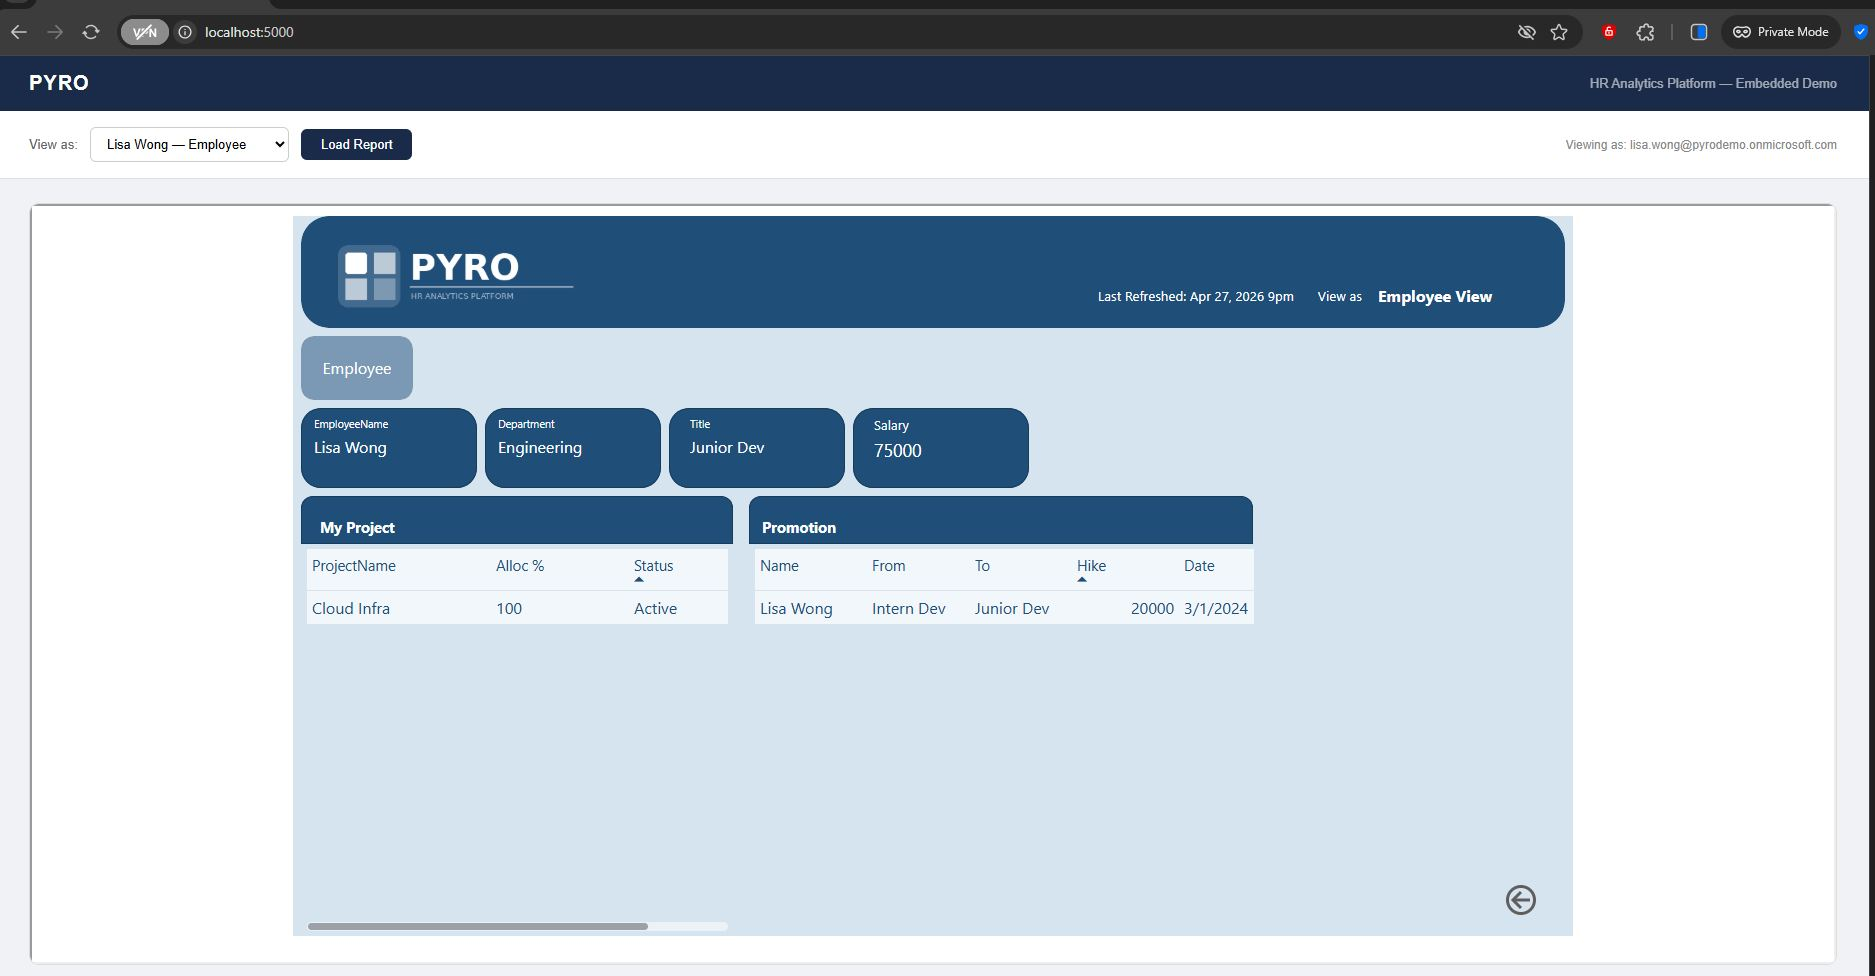

Layout of this report page (visuals, bound fields, positions):
{"tool":"powerbi","page":{"name":"Employee","canvas":[1280,720],"ordinal":1},"visuals":[{"type":"textbox","box":[1016,64,64,40],"z":0,"group":"g4"},{"type":"shape","box":[8,280,432,48],"z":0,"group":"g3"},{"type":"group","id":"g1","title":"Group 1","box":[456,280,504,48],"z":0,"group":"g6"},{"type":"shape","box":[456,280,504,48],"z":0,"group":"g1"},{"type":"textbox","box":[21.9,296,125.4,32],"z":501,"group":"g3"},{"type":"multiRowCard","fields":{"Values":["_Measure.Current Role"]},"box":[1080,64,168,40],"z":1000,"group":"g4"},{"type":"shape","box":[560,192,176,80],"z":1000,"group":"g6"},{"type":"shape","box":[376,192,176,80],"z":2000,"group":"g6"},{"type":"shape","box":[192,192,176,80],"z":3000,"group":"g6"},{"type":"actionButton","box":[8,120,112,64],"z":4000,"group":"g2"},{"type":"shape","box":[8,192,176,80],"z":4000,"group":"g5"},{"type":"textbox","box":[632,568,448,64],"z":4000,"group":"g6"},{"type":"shape","box":[8,0,1264,112],"z":5000},{"type":"actionButton","box":[128,120,112,64],"z":5000,"group":"g2"},{"type":"actionButton","box":[248,120,112,64],"z":6000,"group":"g2"},{"type":"tableEx","title":"My Projects","fields":{"Values":["Projects.ProjectName","Sum(Projects.AllocationPct)","Projects.Status"]},"box":[8,328,432,392],"z":6000,"group":"g6"},{"type":"image","box":[40,0,318.5,120],"z":7000},{"type":"group","id":"g2","title":"Group 3","box":[8,120,352,64],"z":8000,"group":"g6"},{"type":"tableEx","title":"My Projects","fields":{"Values":["Promotions.EmployeeName","Promotions.OldTitle","Promotions.NewTitle","_Measure.SalaryHike","Promotions.EffectiveDate"]},"box":[456,328,512,376],"z":9000,"group":"g6"},{"type":"textbox","box":[800,64,216,48],"z":10000,"group":"g6"},{"type":"textbox","box":[464,296,120,40],"z":11000,"group":"g6"},{"type":"group","id":"g3","title":"Group 1","box":[8,280,432,48],"z":12000,"group":"g6"},{"type":"multiRowCard","title":"Department","fields":{"Values":["_Measure.Department cardMy Department"]},"box":[200,200,160,56],"z":13000,"group":"g6"},{"type":"multiRowCard","title":"EmployeeName","fields":{"Values":["_Measure.Employee Name cardMy Name"]},"box":[16,200,160,56],"z":14000,"group":"g5"},{"type":"multiRowCard","title":"Title","fields":{"Values":["_Measure.Job Title cardMy Job Title"]},"box":[392,200,144,56],"z":14000,"group":"g6"},{"type":"multiRowCard","title":"Salary","fields":{"Values":["_Measure.Salary cardMy Salary"]},"box":[576,200,152,64],"z":15000,"group":"g6"},{"type":"group","id":"g4","title":"Group 2","box":[1016,64,232,40],"z":16000,"group":"g6"},{"type":"group","id":"g5","title":"Group 4","box":[8,192,176,80],"z":17000,"group":"g6"},{"type":"actionButton","box":[1208,664,72,40],"z":18000},{"type":"group","id":"g6","title":"Group 5","box":[8,64,1240,656],"z":18001}]}

Visuals, with their boxes on the page's 1280x720 design canvas (x1, y1, x2, y2). These are canvas units, not pixel positions in the 1875x976 screenshot, which may show the page scaled, cropped or inside an application window:
textbox: pyautogui.locateOnScreen(1016, 64, 1080, 104)
shape: pyautogui.locateOnScreen(8, 280, 440, 328)
"Group 1" group: pyautogui.locateOnScreen(456, 280, 960, 328)
shape: pyautogui.locateOnScreen(456, 280, 960, 328)
textbox: pyautogui.locateOnScreen(22, 296, 147, 328)
multiRowCard - _Measure.Current Role: pyautogui.locateOnScreen(1080, 64, 1248, 104)
shape: pyautogui.locateOnScreen(560, 192, 736, 272)
shape: pyautogui.locateOnScreen(376, 192, 552, 272)
shape: pyautogui.locateOnScreen(192, 192, 368, 272)
actionButton: pyautogui.locateOnScreen(8, 120, 120, 184)
shape: pyautogui.locateOnScreen(8, 192, 184, 272)
textbox: pyautogui.locateOnScreen(632, 568, 1080, 632)
shape: pyautogui.locateOnScreen(8, 0, 1272, 112)
actionButton: pyautogui.locateOnScreen(128, 120, 240, 184)
actionButton: pyautogui.locateOnScreen(248, 120, 360, 184)
"My Projects" tableEx: pyautogui.locateOnScreen(8, 328, 440, 720)
image: pyautogui.locateOnScreen(40, 0, 358, 120)
"Group 3" group: pyautogui.locateOnScreen(8, 120, 360, 184)
"My Projects" tableEx: pyautogui.locateOnScreen(456, 328, 968, 704)
textbox: pyautogui.locateOnScreen(800, 64, 1016, 112)
textbox: pyautogui.locateOnScreen(464, 296, 584, 336)
"Group 1" group: pyautogui.locateOnScreen(8, 280, 440, 328)
"Department" multiRowCard: pyautogui.locateOnScreen(200, 200, 360, 256)
"EmployeeName" multiRowCard: pyautogui.locateOnScreen(16, 200, 176, 256)
"Title" multiRowCard: pyautogui.locateOnScreen(392, 200, 536, 256)
"Salary" multiRowCard: pyautogui.locateOnScreen(576, 200, 728, 264)
"Group 2" group: pyautogui.locateOnScreen(1016, 64, 1248, 104)
"Group 4" group: pyautogui.locateOnScreen(8, 192, 184, 272)
actionButton: pyautogui.locateOnScreen(1208, 664, 1280, 704)
"Group 5" group: pyautogui.locateOnScreen(8, 64, 1248, 720)
